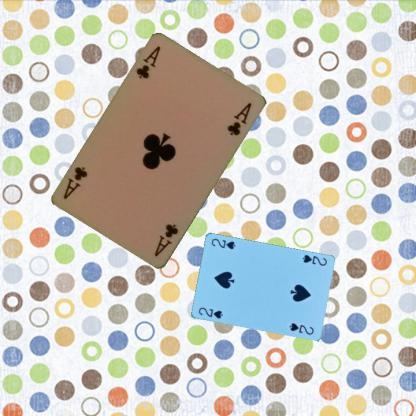2s: (196, 305, 223, 320), (300, 252, 327, 267)
Ac: (133, 43, 162, 81), (152, 221, 180, 258)
